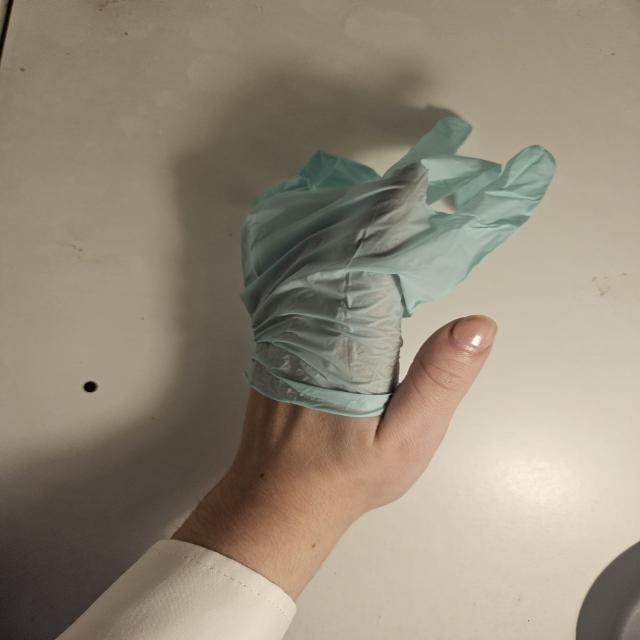glove_partial: (238, 116, 553, 510)
